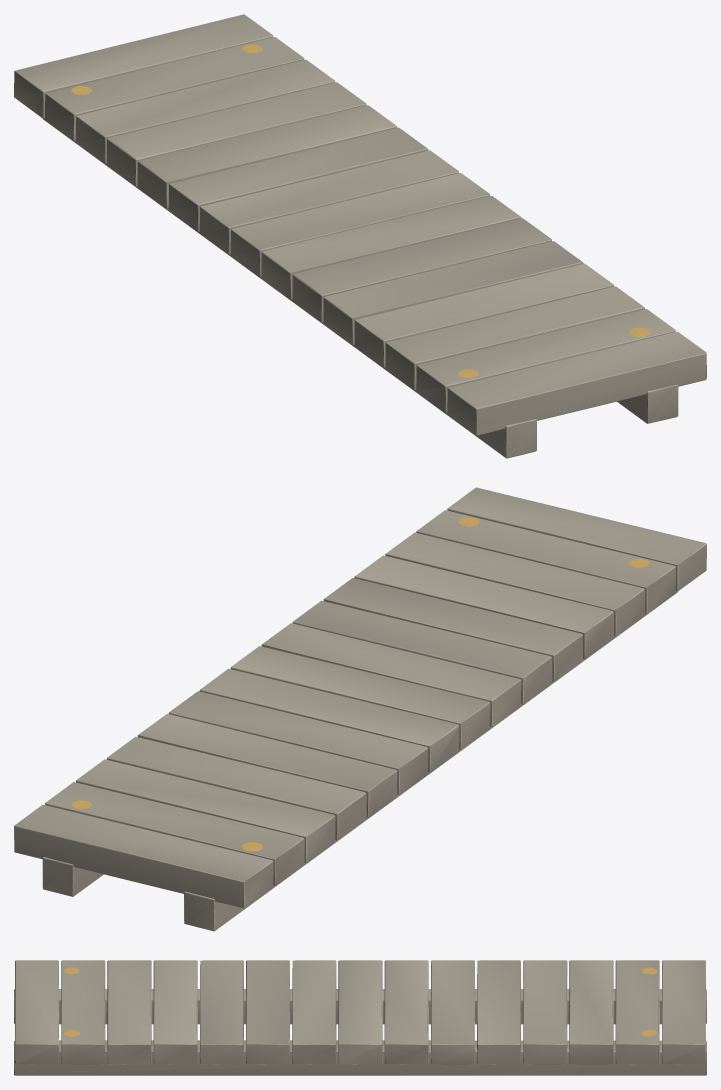
Rendered from pirate_road_v.glb.
3 renders of one model, top to bottom at view 1: azimuth 30°, elevation 25°; view 2: azimuth 150°, elevation 25°; view 3: azimuth 270°, elevation 25°, orthographic. The views are drawn at different scales.
Visible parts, largest first — view 1: WoodBody; view 2: WoodBody; view 3: WoodBody, BrassTrim.
Boxes of the visible parts, <box> form: WoodBody: <box>14,14,706,458</box>; WoodBody: <box>14,487,706,931</box>; WoodBody: <box>14,960,706,1075</box>; BrassTrim: <box>63,967,656,1036</box>.
Bounding box in the file's own units: 0.19 × 0.045 × 0.66.
